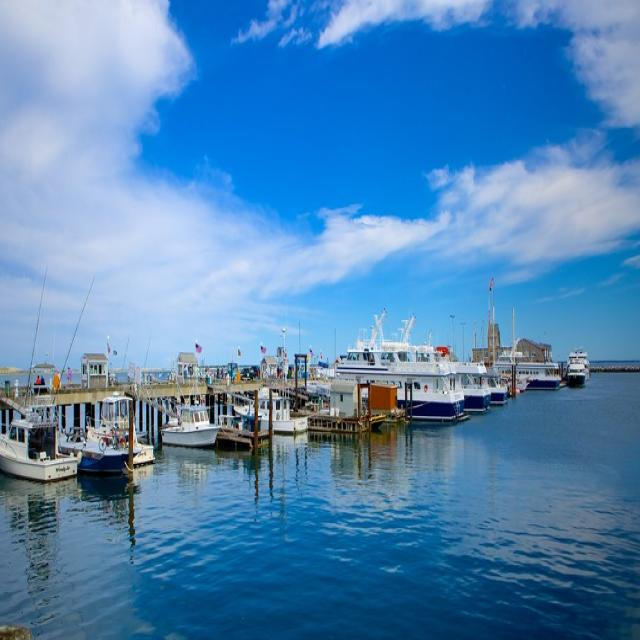houseboat: (0, 400, 73, 485)
passenger ship: (330, 320, 465, 424)
